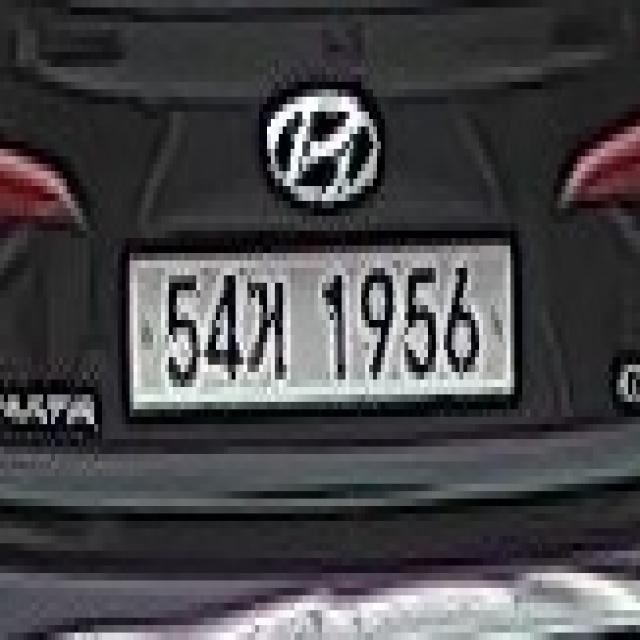1: (311, 253, 354, 394)
4: (200, 253, 243, 387)
5: (396, 246, 444, 380), (157, 268, 200, 387)
6: (444, 253, 483, 380)
9: (349, 253, 396, 387)
geo: (236, 260, 294, 387)
license_plate: (118, 231, 522, 409)
